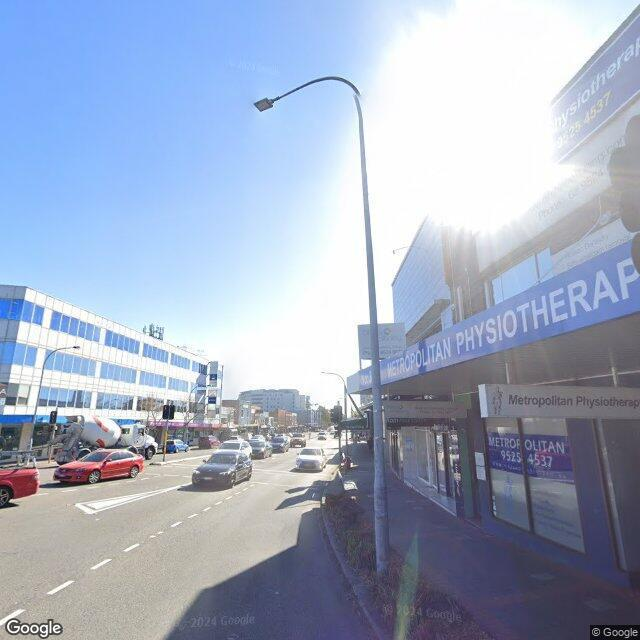steel-pole: (363, 212, 388, 575), (27, 371, 44, 464), (162, 398, 171, 462), (48, 406, 58, 463), (344, 382, 348, 456)
streetlight: (254, 74, 368, 212), (42, 345, 80, 371), (319, 371, 345, 381)
traffic-light: (162, 404, 174, 421), (48, 410, 58, 424)
